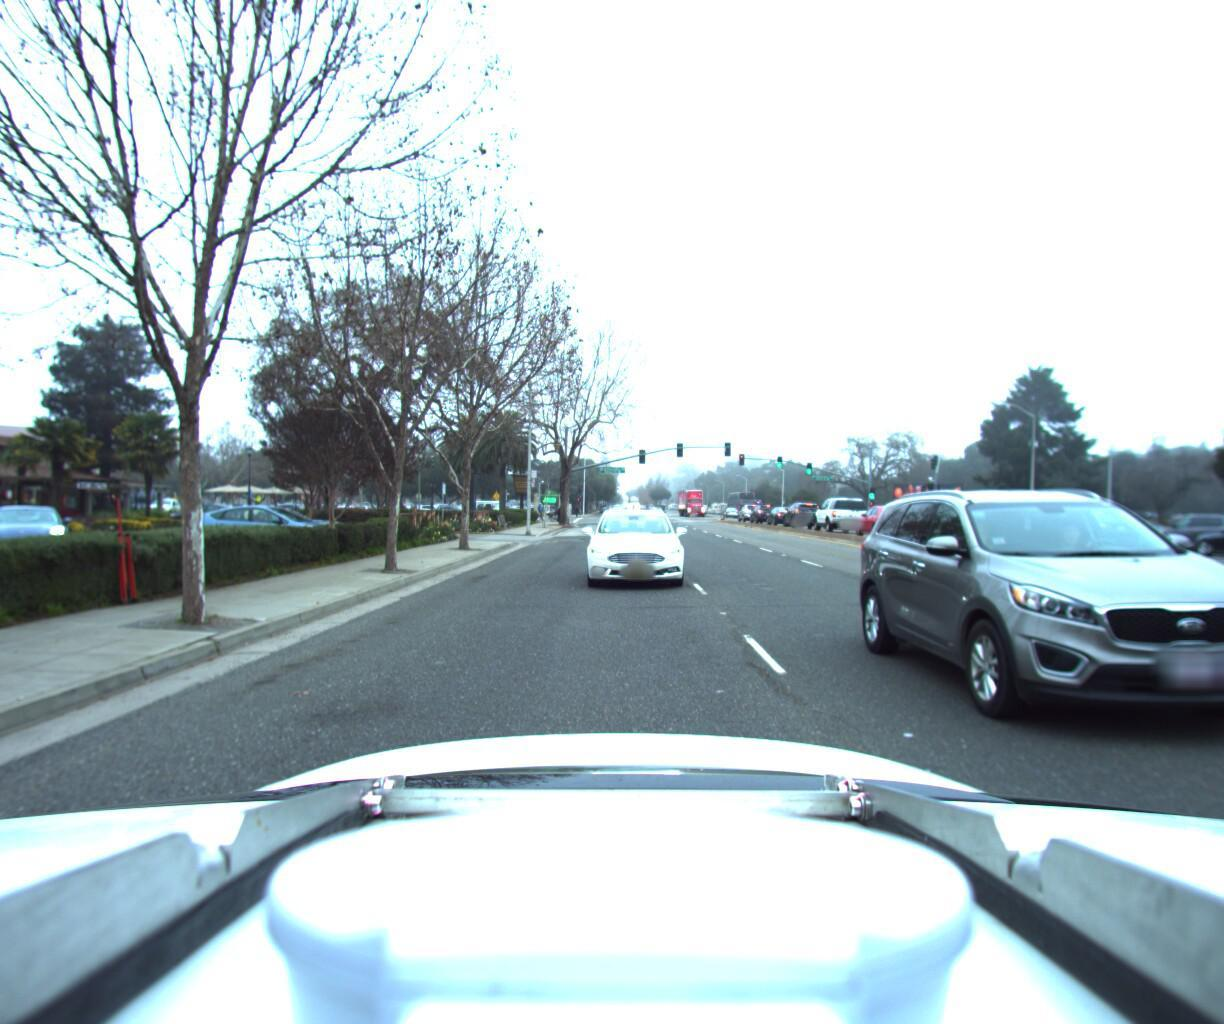bicycle: (533, 493, 551, 513)
car: (871, 457, 1224, 839), (576, 502, 688, 592), (184, 499, 335, 549), (0, 504, 63, 567), (1145, 504, 1224, 554), (1084, 509, 1176, 545), (849, 496, 929, 532), (1171, 508, 1224, 557), (808, 487, 870, 525), (780, 492, 827, 524), (748, 494, 781, 518), (764, 498, 800, 520), (737, 495, 764, 516)
